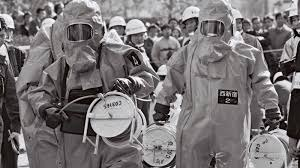helmet: (124, 16, 149, 39), (179, 4, 205, 25), (107, 14, 131, 31)
person with full safety: (23, 1, 159, 168)
person with partial safety: (152, 1, 285, 167)
